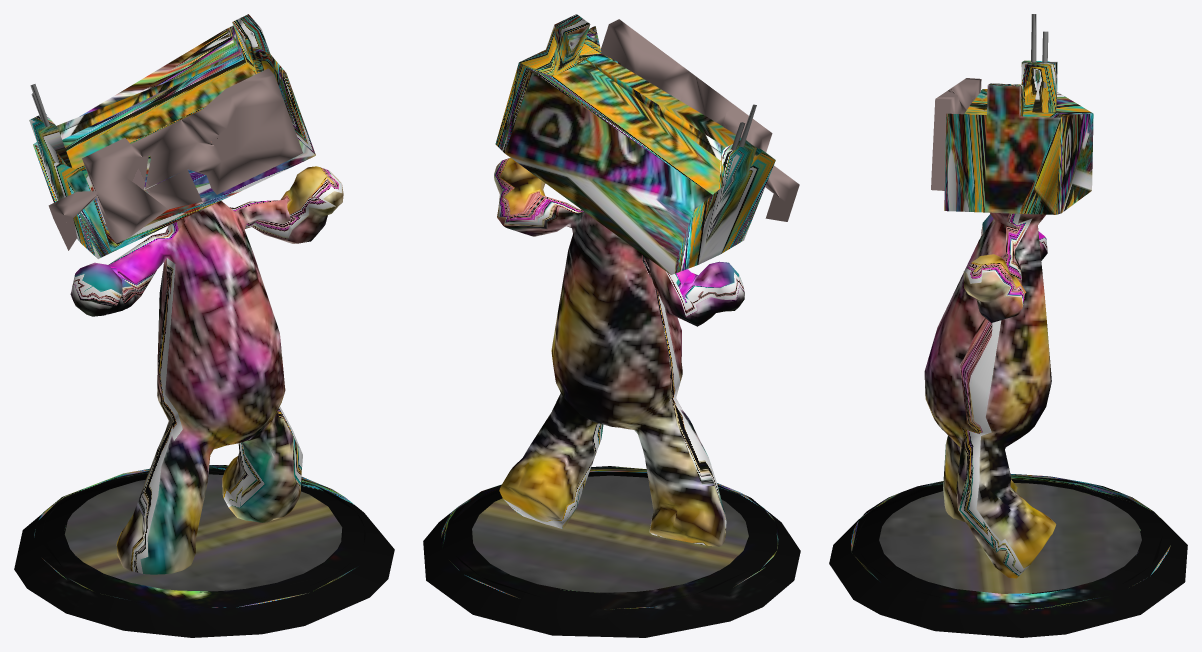
3 renders of one model, left to right at view 1: azimuth 30°, elevation 25°; view 2: azimuth 150°, elevation 25°; view 3: azimuth 270°, elevation 25°, orthographic. The views are drawn at different scales.
Size of the model in its own units: 1.46 by 2.19 by 1.43.
6 materials, 5 textured.
